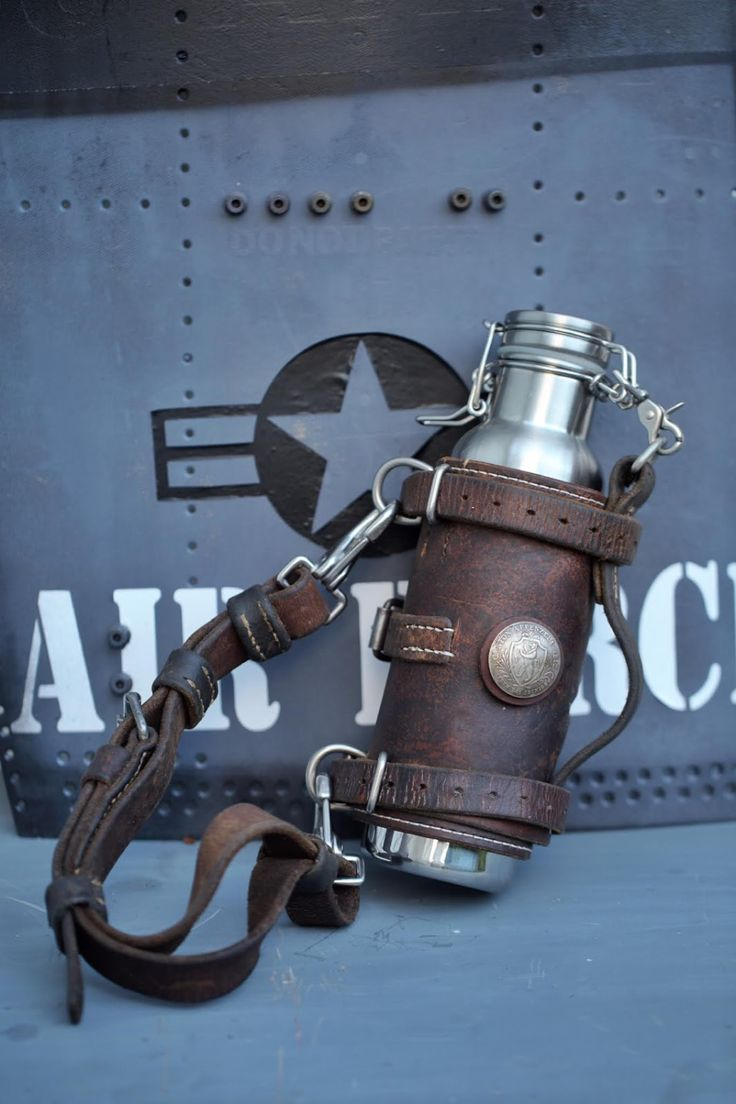cuero: (45, 456, 660, 1024)
